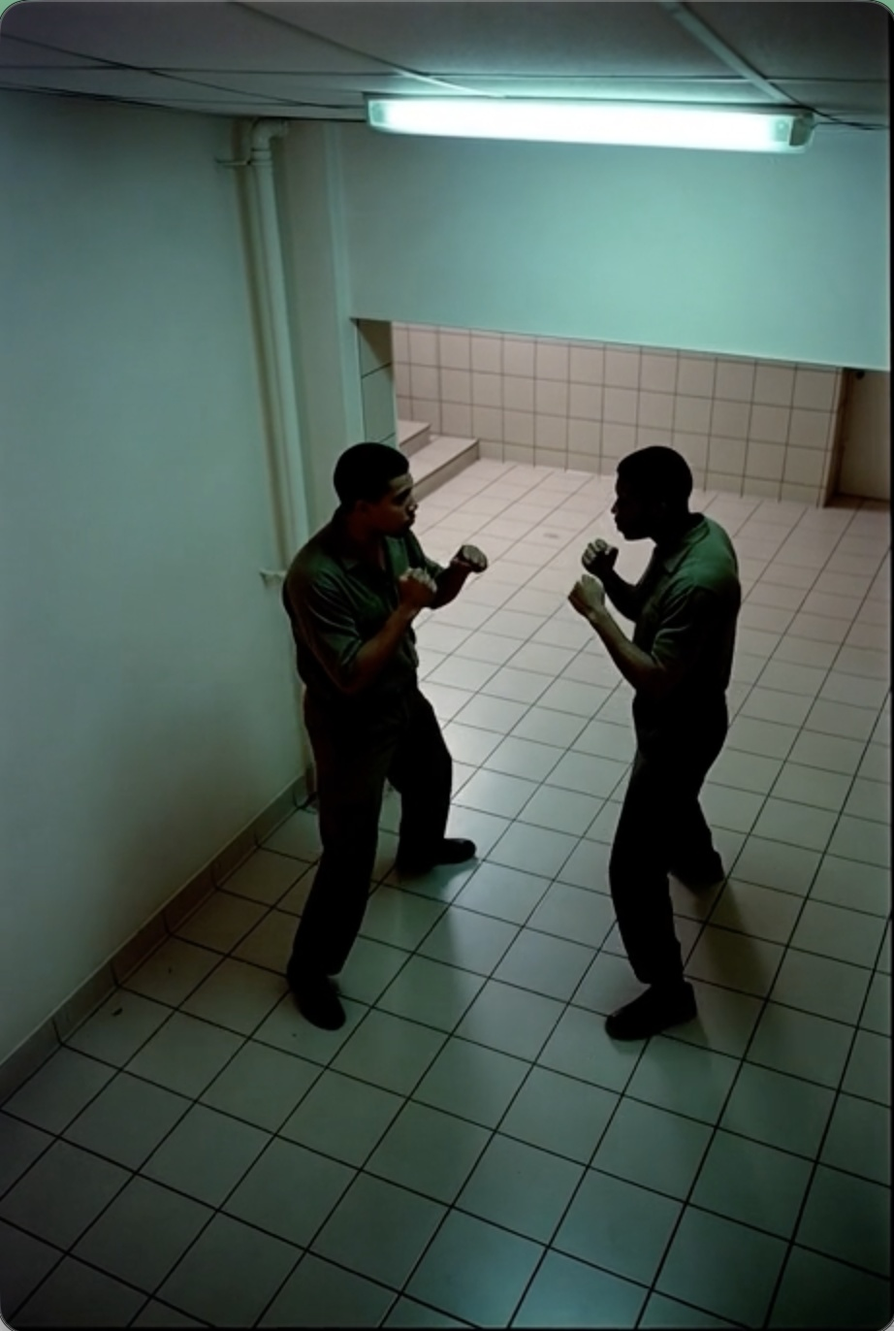Assault: (569, 445, 744, 1038)
Fighting: (279, 441, 488, 1032)
